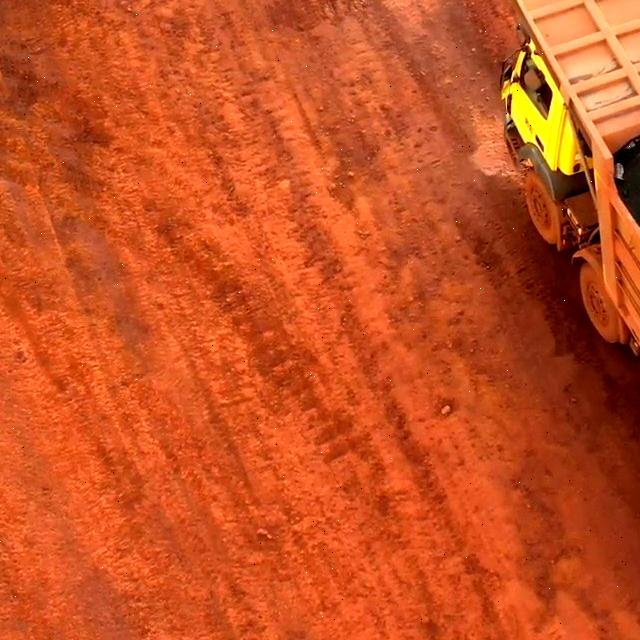Dumper truck: (492, 0, 640, 200)
